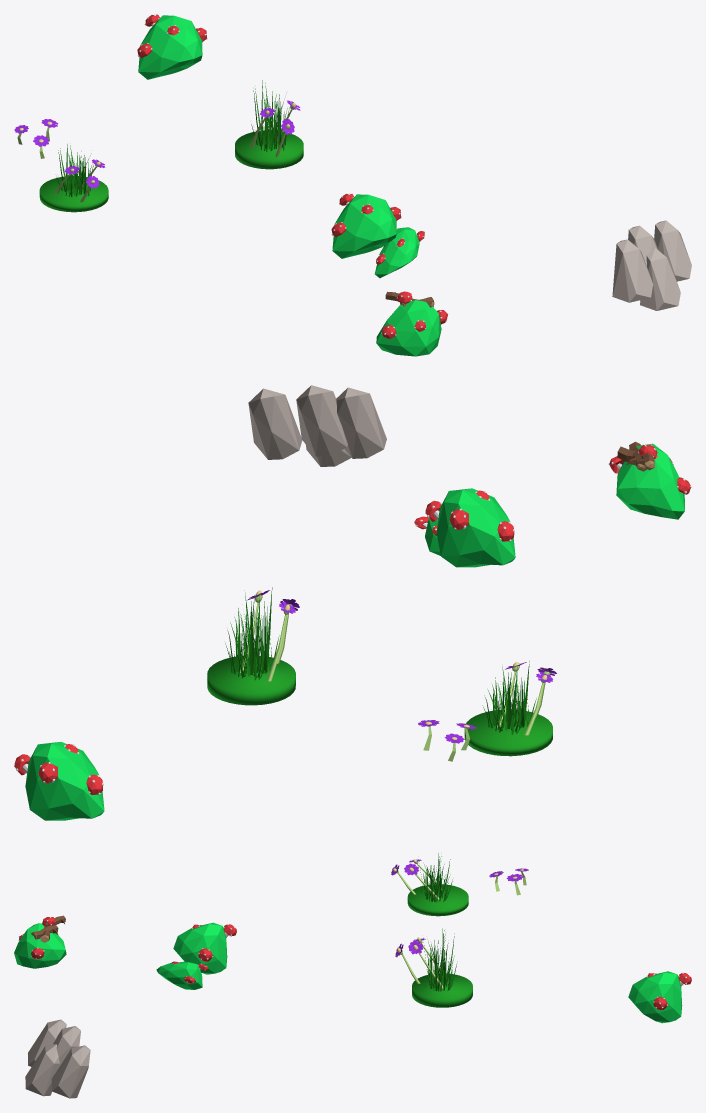
The model's file is stone.fbx.
3 views of the same model, one above another, from view 1: azimuth 30°, elevation 25°; view 2: azimuth 150°, elevation 25°; view 3: azimuth 270°, elevation 25° (orthographic). The views are drawn at different scales.
Parts seen in each view (by area): view 1: Mushroom1.014, Circle, Mushroom1.006, Mushroom1.008, Circle.003, Rock4.005, Rock4.002, Mushroom1.002, Rock4.003, Rock4.001; view 2: Circle, Mushroom1.006, Mushroom1.014, Circle.003, Mushroom1.008, Rock4.003, Rock4.001, Rock4.005, flowers with grass3; view 3: Circle, Circle.003, Mushroom1.014, Mushroom1.006, Mushroom1.008, Rock4.003, Rock4.002, Mushroom1.002, Rock4.005, Rock4.001.
Part boxes in pixels (x1,y1,x2,y2): Mushroom1.014: (137, 14, 207, 79); Circle: (235, 80, 303, 169); Mushroom1.006: (331, 193, 401, 258); Mushroom1.008: (376, 291, 448, 356); Circle.003: (39, 144, 108, 212); Rock4.005: (612, 239, 653, 302); Rock4.002: (640, 248, 680, 310); Mushroom1.002: (374, 227, 424, 278); Rock4.003: (654, 220, 691, 281); Rock4.001: (628, 225, 657, 265); Circle: (207, 587, 299, 705); Mushroom1.006: (425, 488, 515, 567); Mushroom1.014: (14, 742, 104, 820); Circle.003: (464, 661, 556, 756); Mushroom1.008: (608, 443, 691, 519); Rock4.003: (248, 388, 302, 459); Rock4.001: (296, 385, 347, 456); Rock4.005: (336, 387, 386, 458); flowers with grass3: (418, 720, 476, 761); Circle: (395, 928, 472, 1007); Circle.003: (391, 853, 468, 916); Mushroom1.014: (628, 971, 691, 1023); Mushroom1.006: (173, 922, 236, 974); Mushroom1.008: (14, 916, 66, 968); Rock4.003: (51, 1045, 90, 1098); Rock4.002: (25, 1044, 59, 1096); Mushroom1.002: (156, 961, 207, 989); Rock4.005: (28, 1019, 66, 1066); Rock4.001: (53, 1026, 80, 1067).
Bounding box in the file's own units: 107 × 24.6 × 162.
